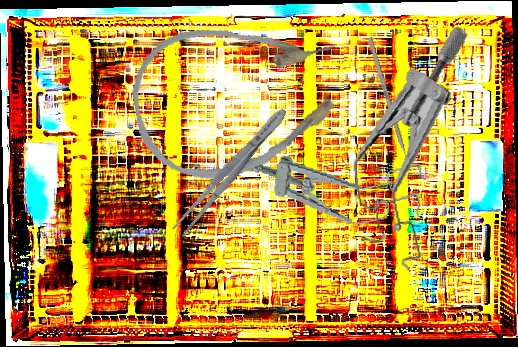Cannula: (123, 7, 355, 190)
Dressing Forceps: (169, 103, 293, 240)
Pusher: (366, 37, 416, 180)
Speculum: (328, 24, 503, 280), (231, 138, 428, 234)
